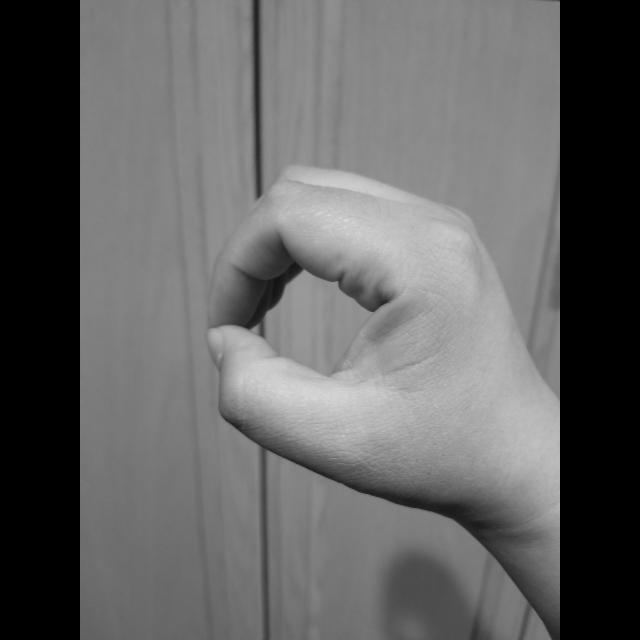O: (198, 157, 546, 521)
